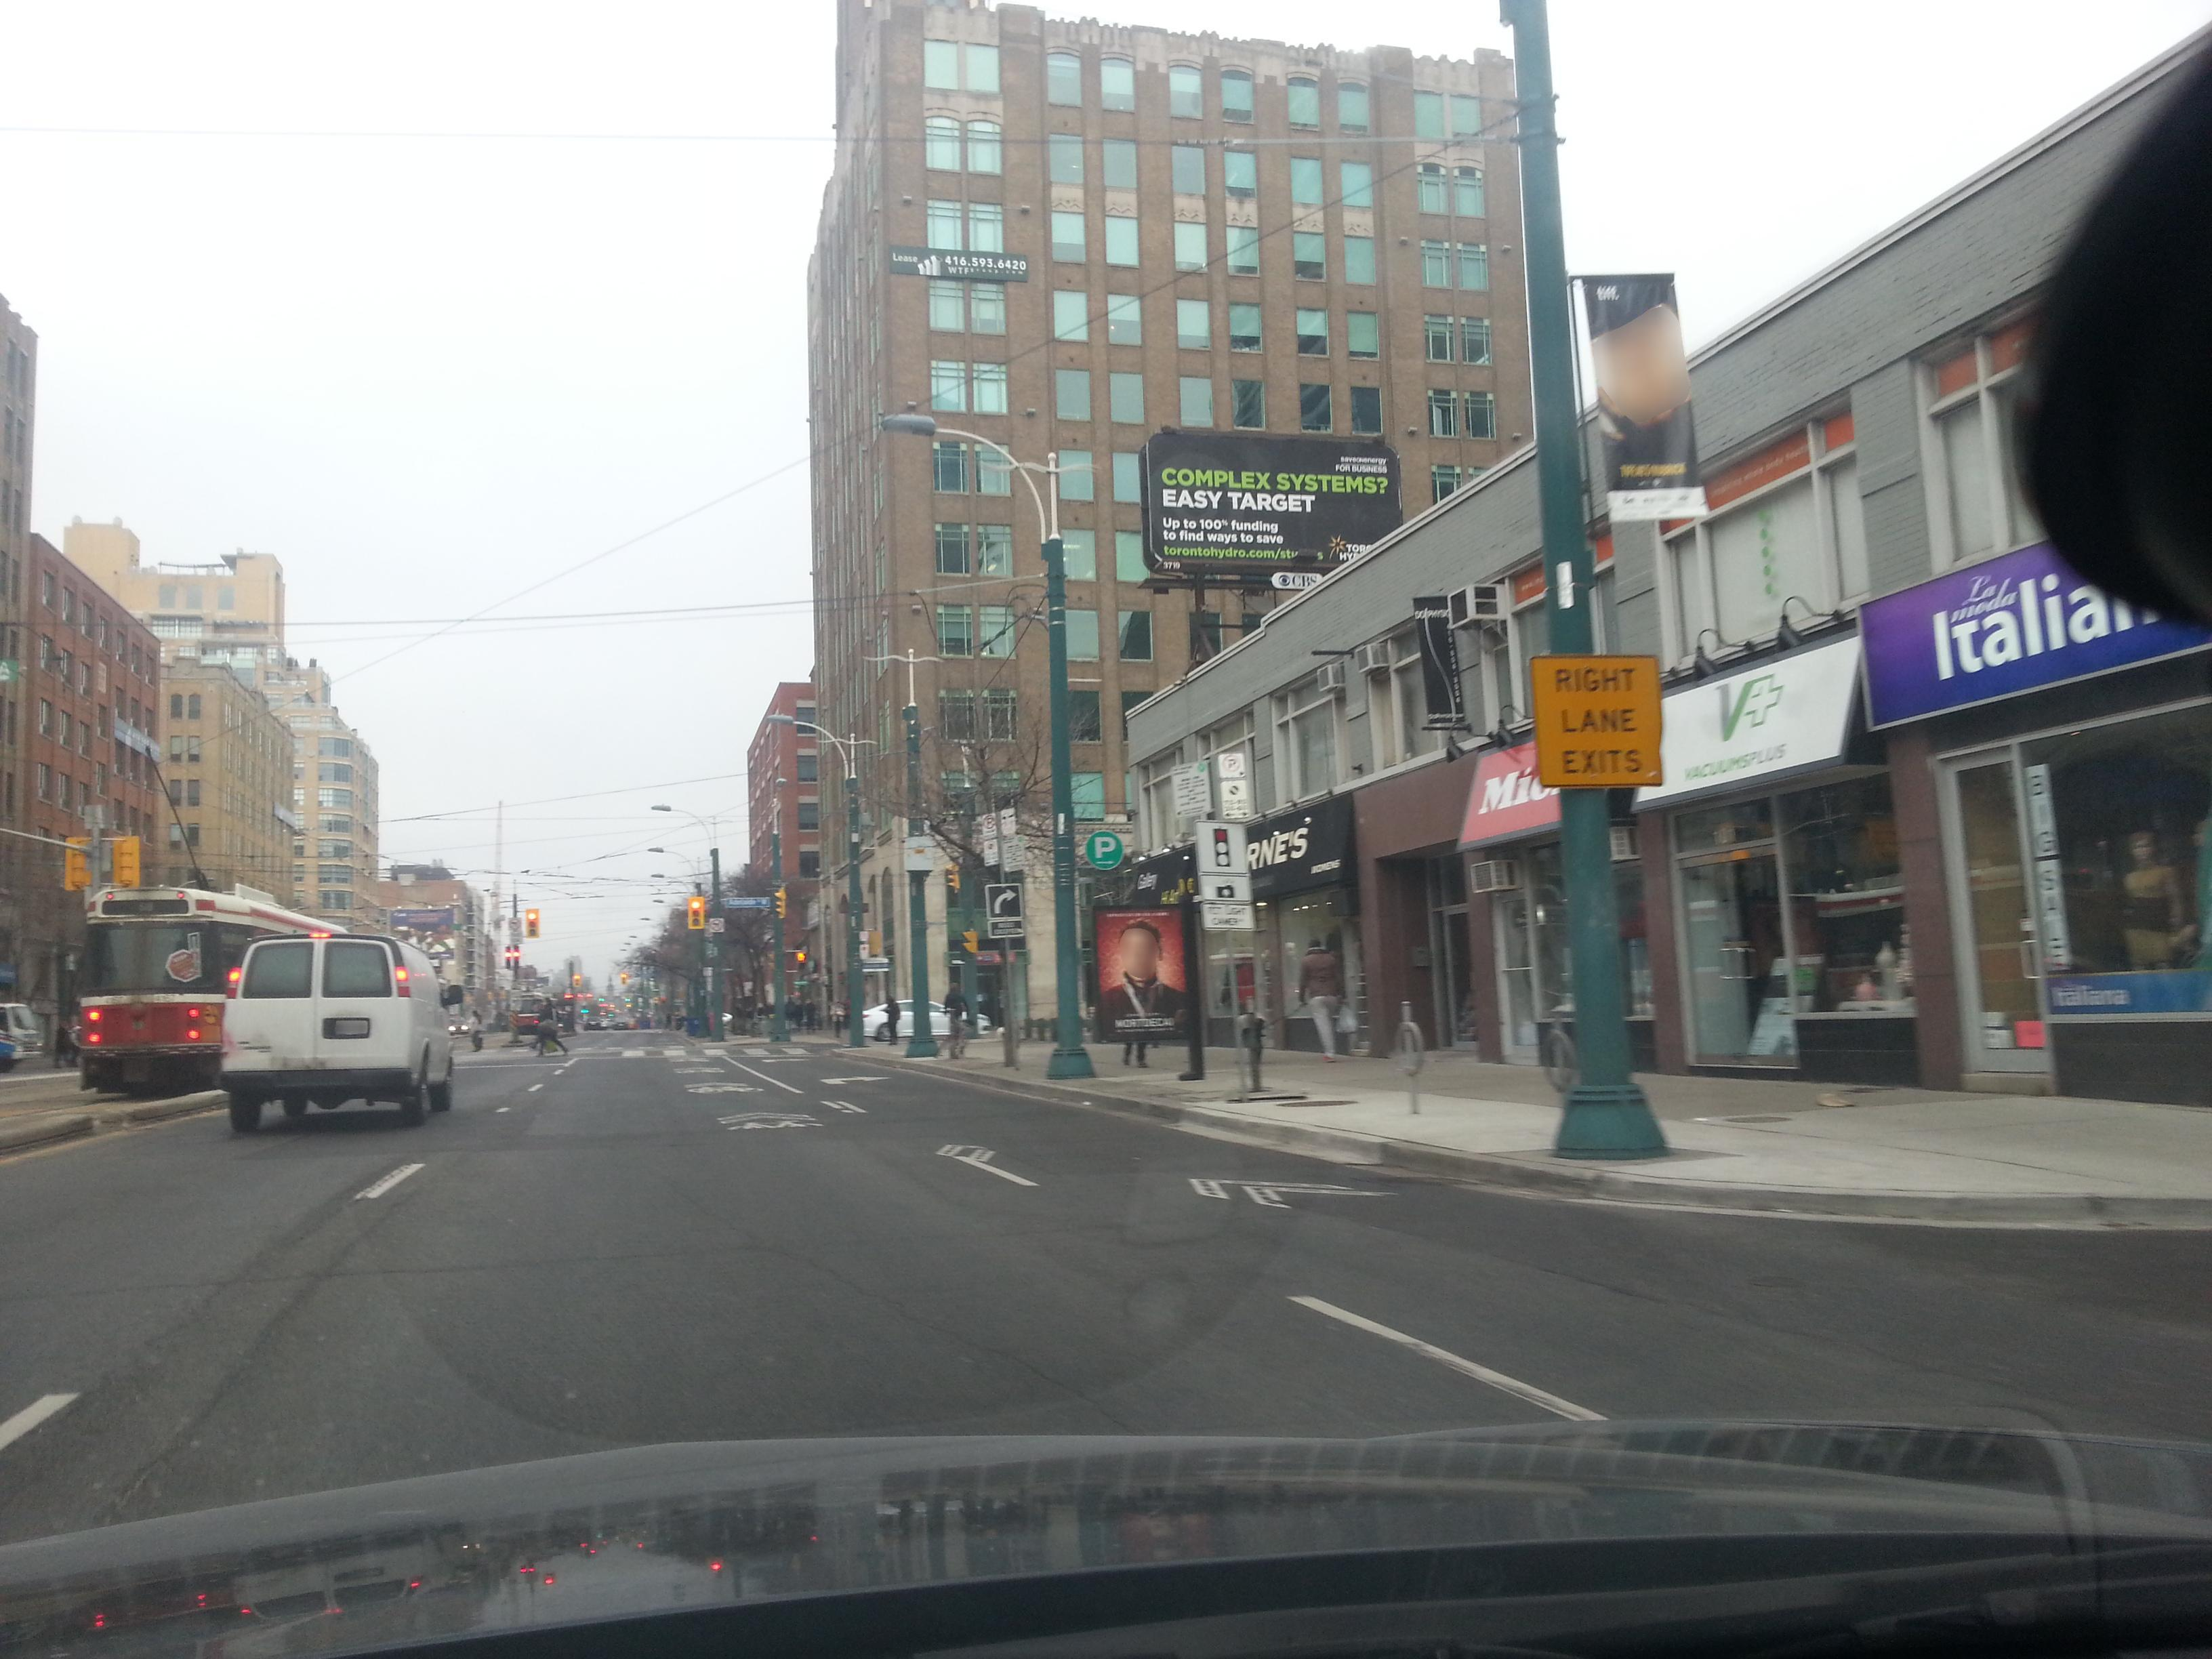vinyl banner: (888, 237, 1036, 296)
